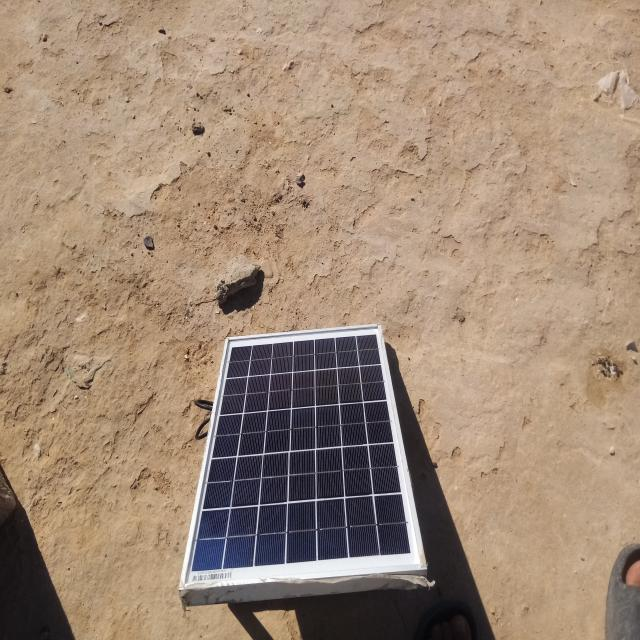Normal Solar Panel: (185, 328, 425, 593)
